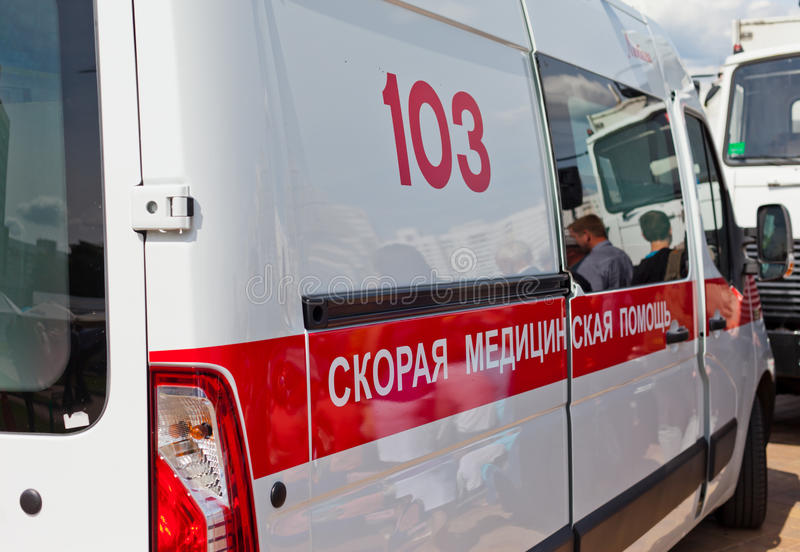special: (2, 2, 776, 552)
